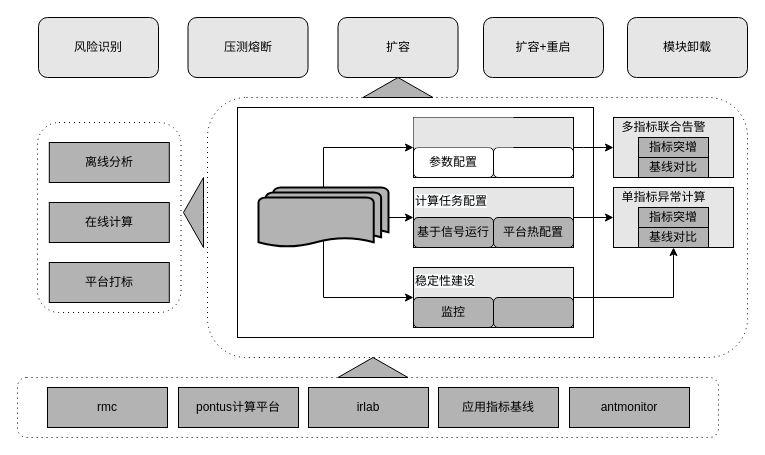
Some shapes in this 765 by 455 pixel diagram are drawn without their labels. The centre of each missing label's shape, as x and y in pixels:
"决策规则" goes at point (533, 162).
"容量风险识别模型" goes at point (323, 217).
"应用识别规则" goes at point (463, 132).
"漏过检测" goes at point (533, 312).
